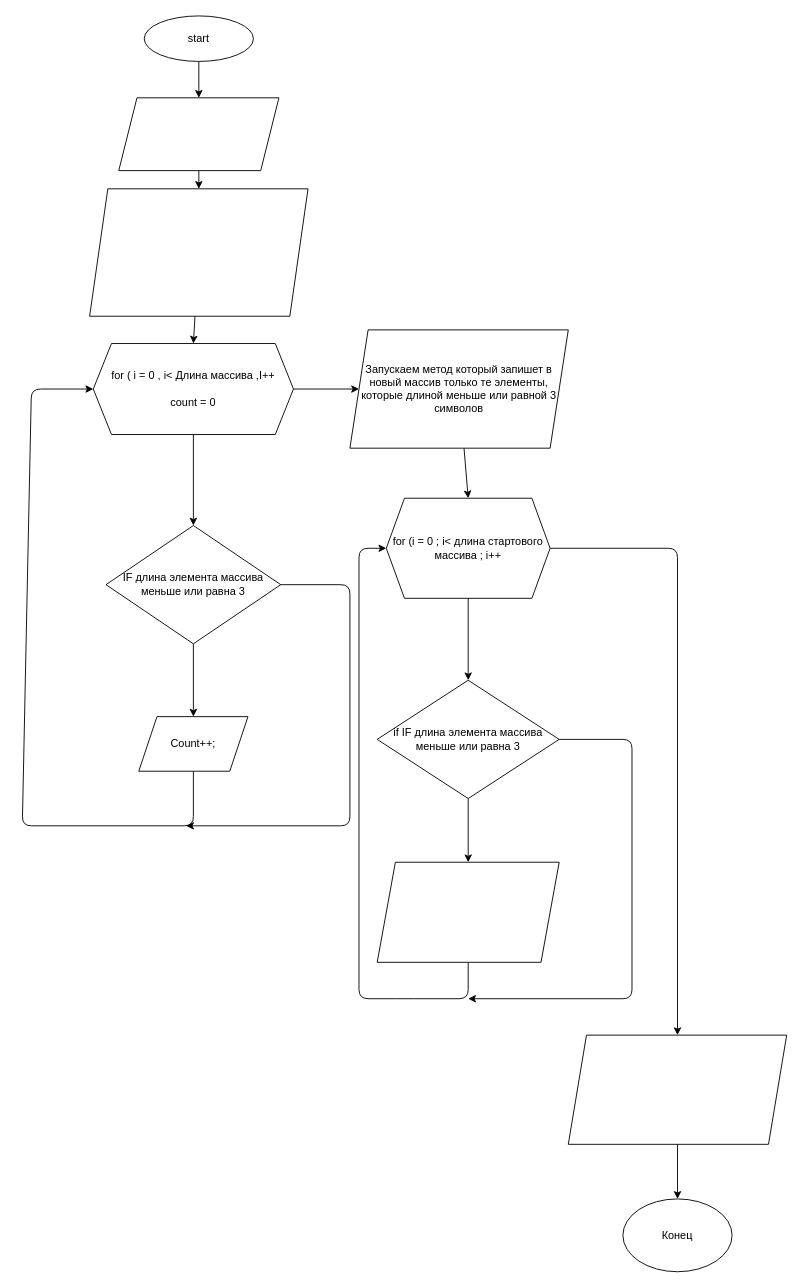
Image size: 803x1288. Some labels were removed from this diagram. The shapes that lost their labels are listed below. From the top down, each one's centre as x and y in pixels, then its label:
At point 198,134: "определяем начальный массив строк".
At point 198,252: "Запускаем метод подсчета элементов у которых 3 или меньше символа".
At point 467,911: "Записываем этот элемент в результирующий массив длиной count".
At point 677,1089: "Ура ! мы создали результирующий массив!".
